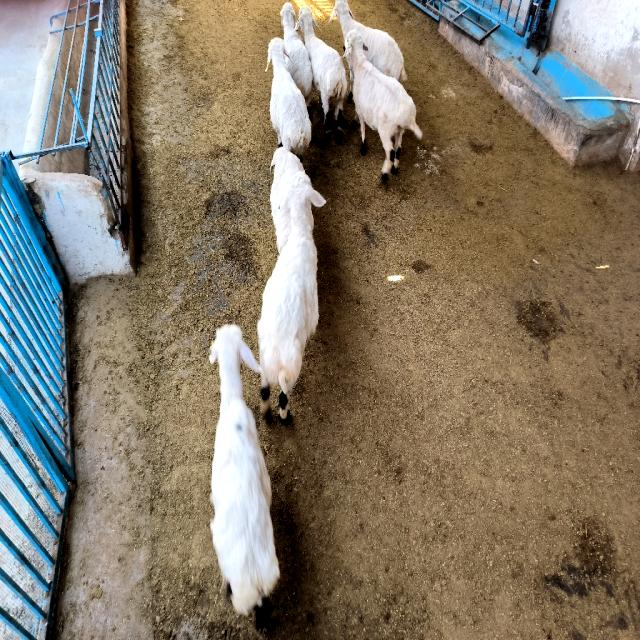sheep: (210, 325, 279, 614), (258, 172, 325, 419), (344, 30, 422, 179), (296, 7, 348, 140), (329, 0, 408, 82), (266, 38, 311, 158), (270, 147, 304, 252), (280, 2, 312, 106), (348, 60, 354, 101)
